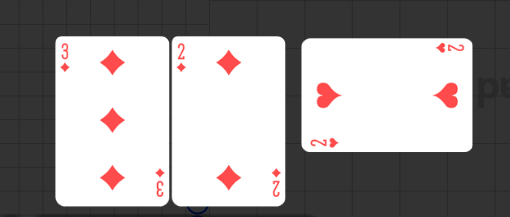2D: (176, 42, 188, 74)
2H: (434, 43, 465, 55)
3D: (60, 42, 71, 75)
